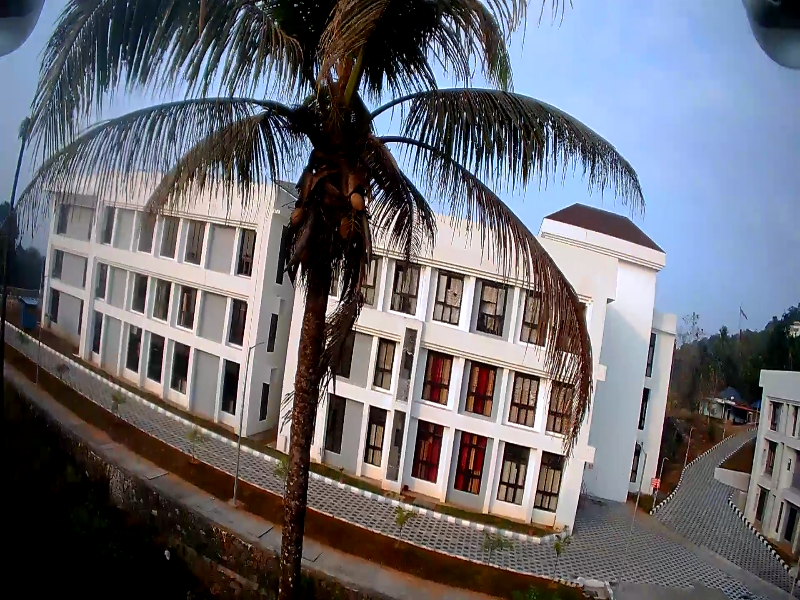coconut: (335, 217, 360, 242), (348, 196, 368, 211), (287, 203, 302, 221)
